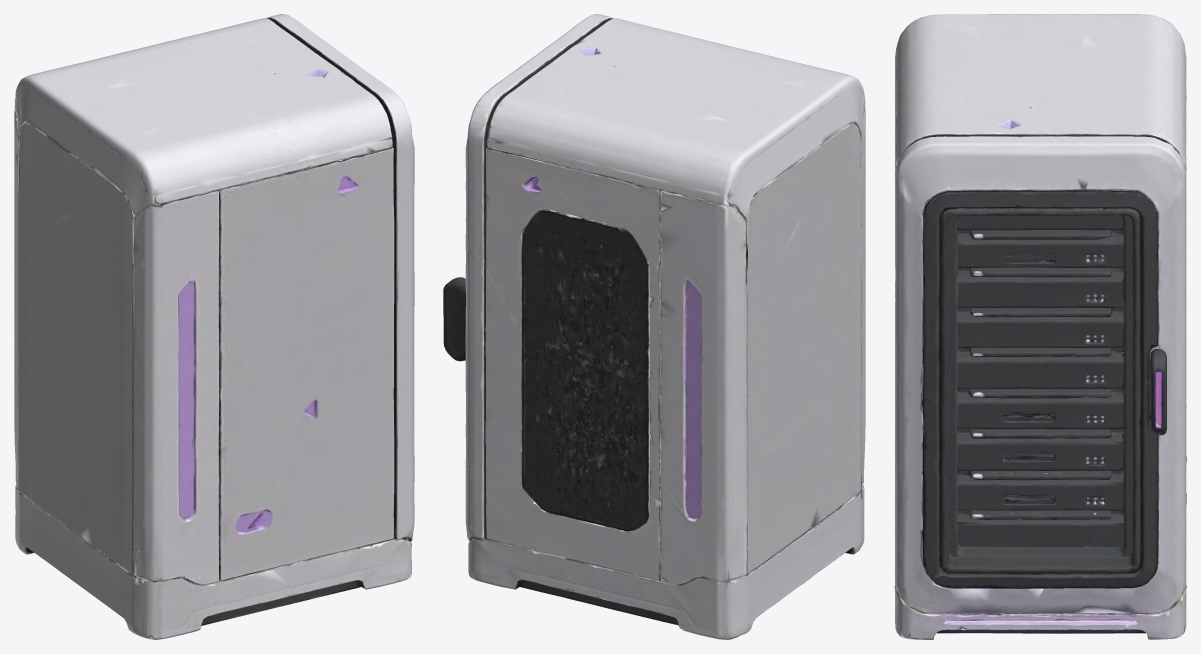
Rendered from data-vault.glb.
3 renders of one model, left to right at view 1: azimuth 30°, elevation 25°; view 2: azimuth 150°, elevation 25°; view 3: azimuth 270°, elevation 25°, orthographic. The views are drawn at different scales.
Visible parts, largest first — view 1: tripo_node_5627097a-295e-4caa-b761-47939e2aca15; view 2: tripo_node_5627097a-295e-4caa-b761-47939e2aca15; view 3: tripo_node_5627097a-295e-4caa-b761-47939e2aca15.
Part boxes in pixels (x1=…): tripo_node_5627097a-295e-4caa-b761-47939e2aca15: x1=14, y1=14, x2=414, y2=639; tripo_node_5627097a-295e-4caa-b761-47939e2aca15: x1=443, y1=14, x2=865, y2=639; tripo_node_5627097a-295e-4caa-b761-47939e2aca15: x1=894, y1=14, x2=1186, y2=639.
Size of the model in its own units: 0.6504 by 0.9781 by 0.5253.
Materials: 1 (1 with a texture image).
